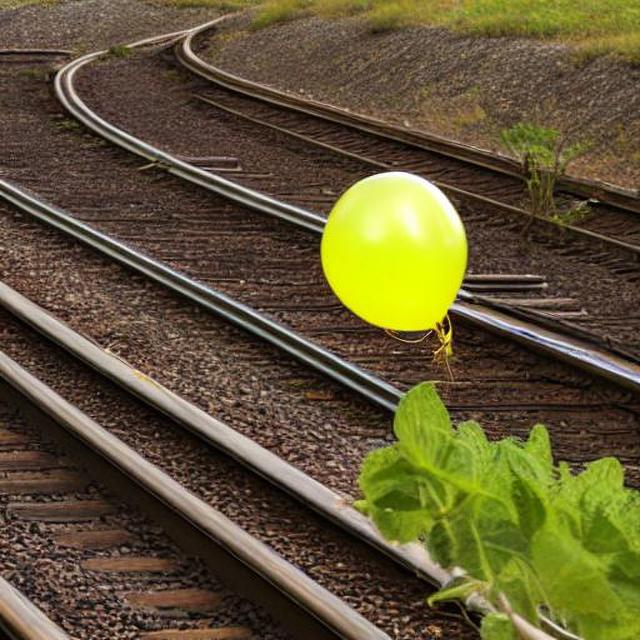balloon: (311, 166, 471, 346)
